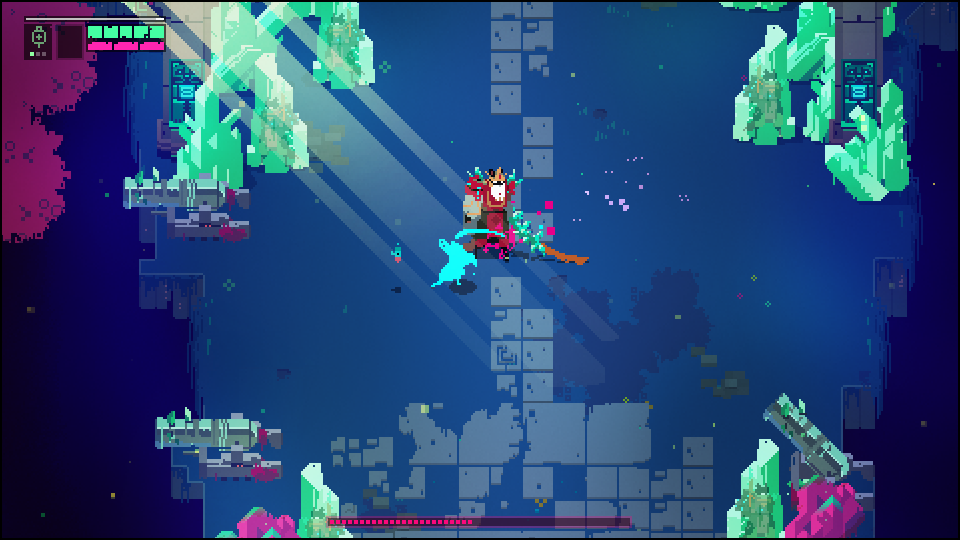hanged_man: (456, 165, 560, 270)
player: (429, 227, 507, 290)
